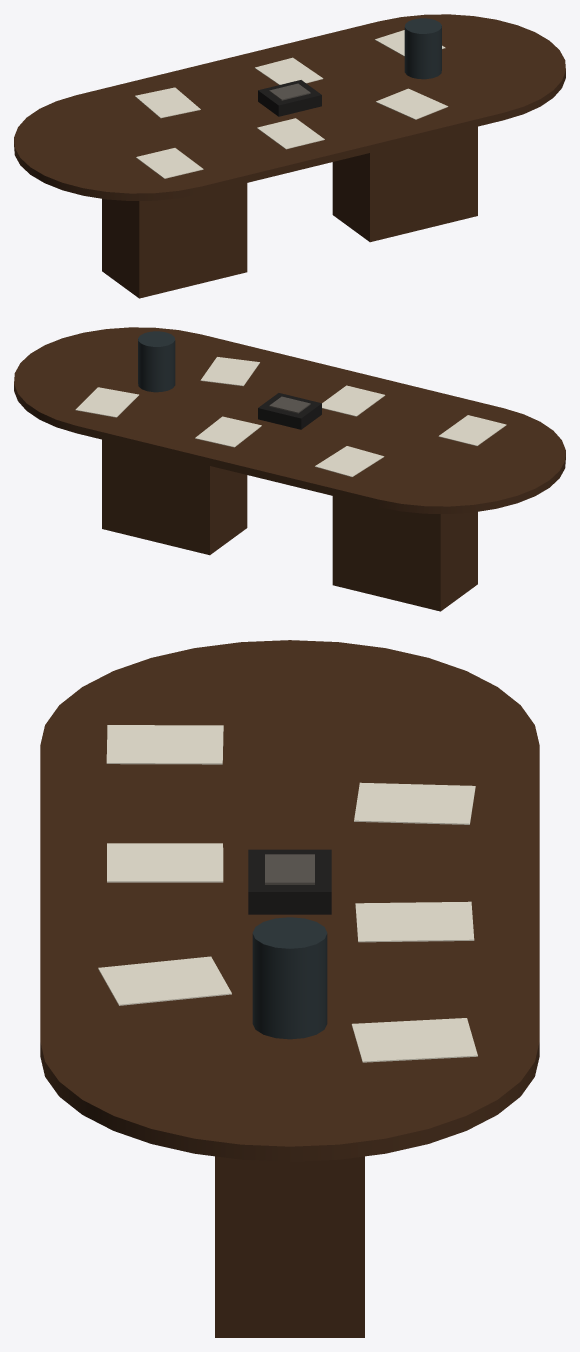
The model's file is SM_80s_ConfTable.glb.
The picture shows the model from 3 angles, top to bottom: view 1: azimuth 30°, elevation 25°; view 2: azimuth 150°, elevation 25°; view 3: azimuth 270°, elevation 25°; orthographic projection. The views are drawn at different scales.
Parts seen in each view (by area): view 1: SM_80s_ConfTable; view 2: SM_80s_ConfTable; view 3: SM_80s_ConfTable.
Boxes of the visible parts, x1,y1,x2,y2 form: SM_80s_ConfTable: [14, 14, 565, 298]; SM_80s_ConfTable: [14, 327, 565, 611]; SM_80s_ConfTable: [40, 640, 539, 1337].
Size of the model in its own units: 3.8 by 1.29 by 1.58.
